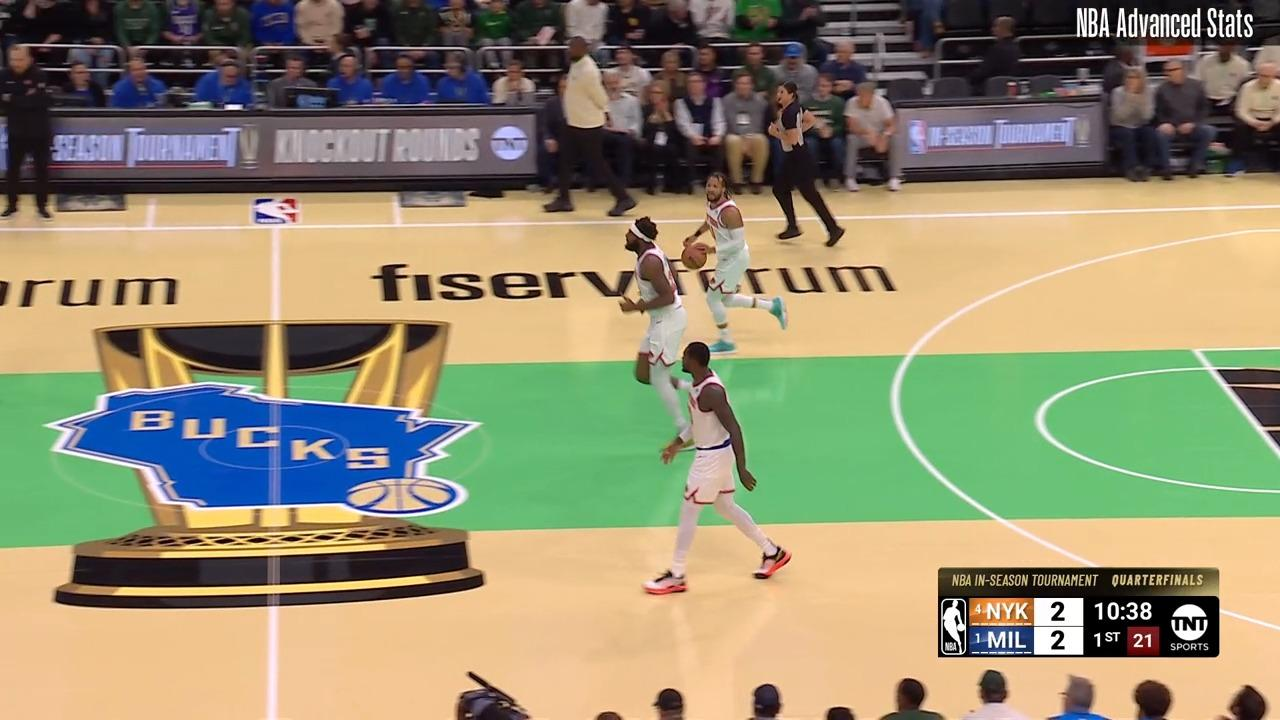Ball: (681, 247, 707, 271)
Person: (641, 340, 797, 599), (681, 172, 789, 365), (622, 214, 702, 452)
Referee: (738, 79, 845, 247)
